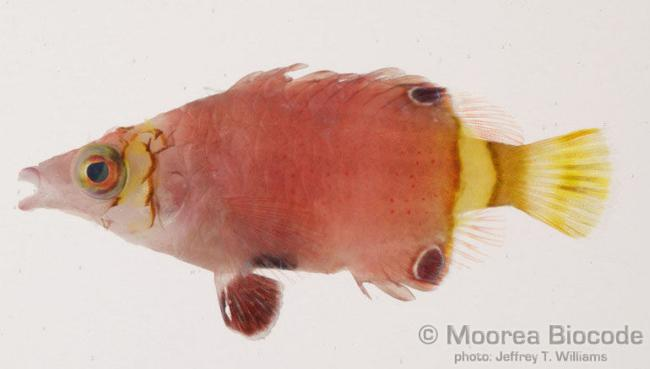fish: (16, 62, 612, 341)
